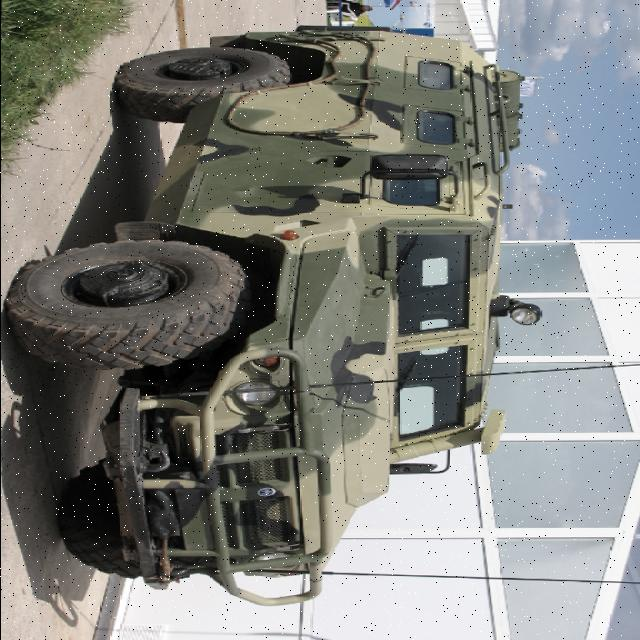CAR: (1, 28, 541, 608)
